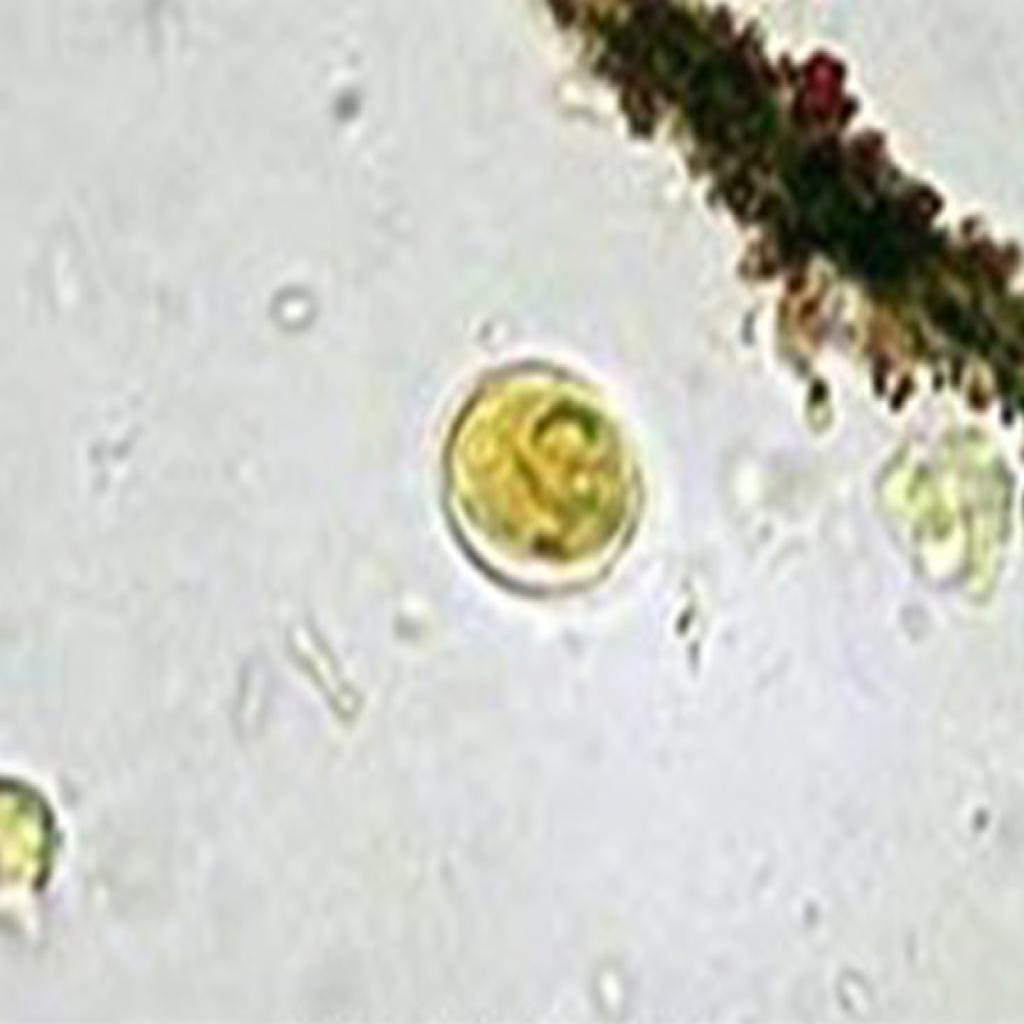Giardia: (412, 330, 658, 608)
